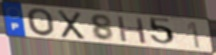1: (186, 21, 202, 50)
5: (147, 17, 177, 48)
8: (89, 13, 115, 42)
H: (115, 15, 148, 45)
O: (25, 7, 57, 38)
X: (56, 9, 86, 41)
